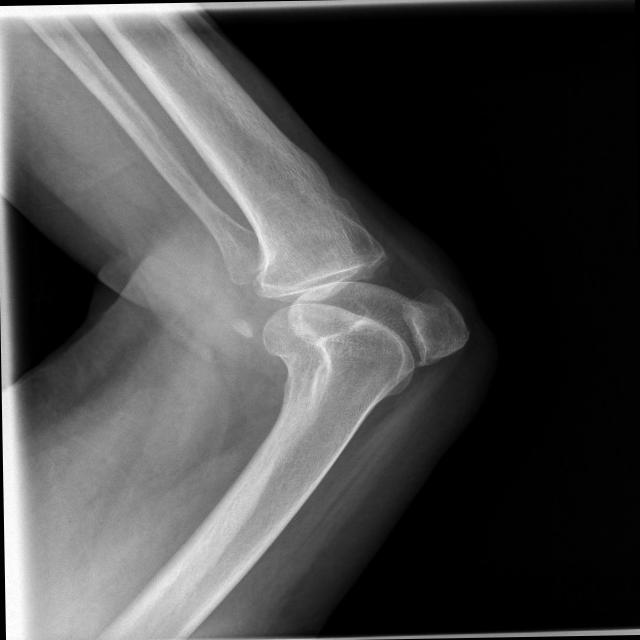Knee: (254, 211, 474, 389)
